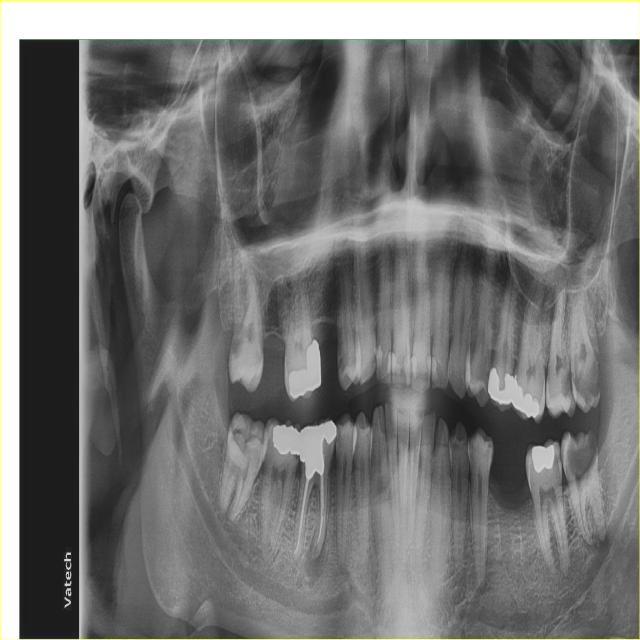Caries: (565, 430, 597, 477), (578, 351, 602, 403), (228, 325, 245, 363), (561, 363, 575, 403), (337, 344, 347, 372), (337, 427, 342, 447), (557, 448, 562, 464)
Filling: (298, 422, 337, 479), (286, 338, 320, 396), (512, 374, 539, 421), (273, 423, 302, 456), (488, 368, 513, 406), (531, 444, 554, 473), (403, 351, 411, 382), (391, 351, 400, 374), (412, 355, 419, 379), (375, 343, 382, 366), (431, 356, 437, 382), (426, 355, 431, 379), (386, 350, 391, 371)
Missing teeth: (489, 448, 532, 513), (312, 321, 342, 388), (260, 363, 290, 394), (238, 332, 264, 363), (262, 336, 286, 347)
Periapical lesion: (299, 527, 328, 587), (478, 560, 488, 594), (595, 535, 609, 554)
Root Canal Treatment: (292, 476, 310, 555), (316, 474, 324, 546)
impacted tooth: (215, 410, 266, 525)
